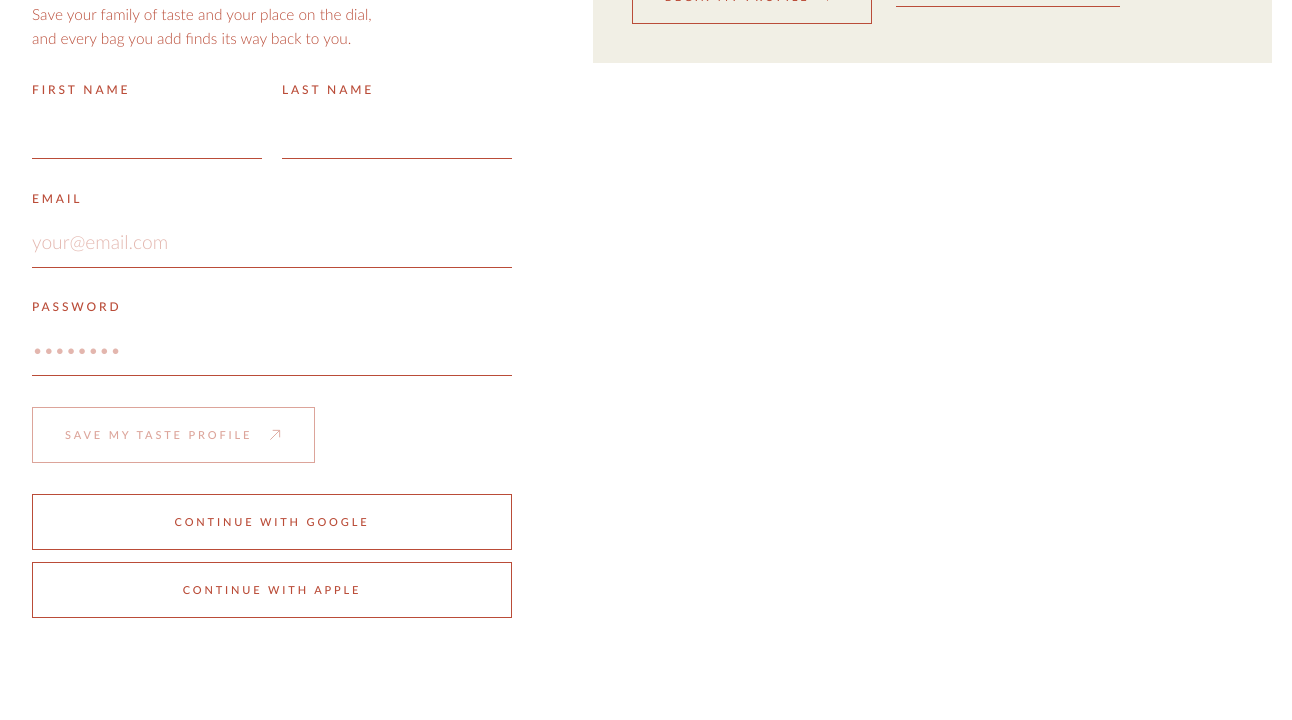
Test: /sign-in › keeps the redirect through Google and Apple
This screenshot has width=1292, height=720.
Later steps or results of the test are not shown.
(page scrolled)
Click the button "Continue with Google" at (272, 522), box [32,494,512,550]
(page scrolled)
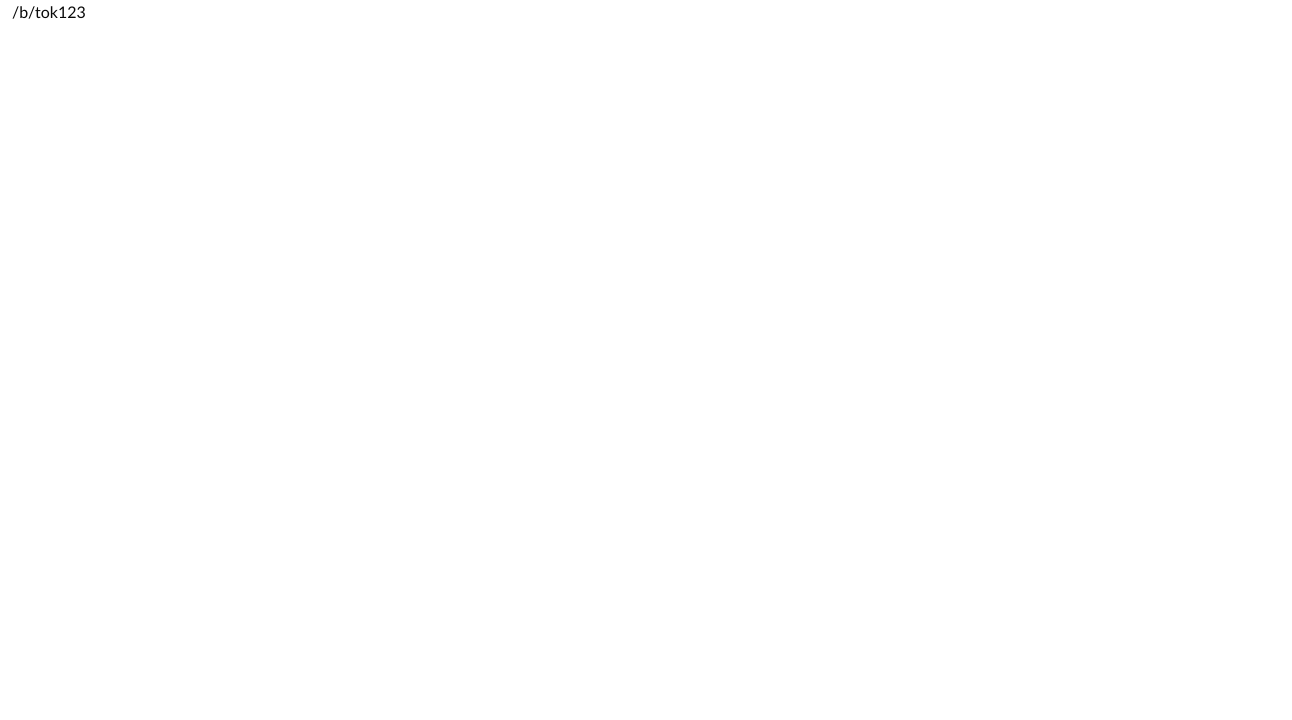
Expected: the text with test id "where" reads "/b/tok123", [12,2,86,21]
